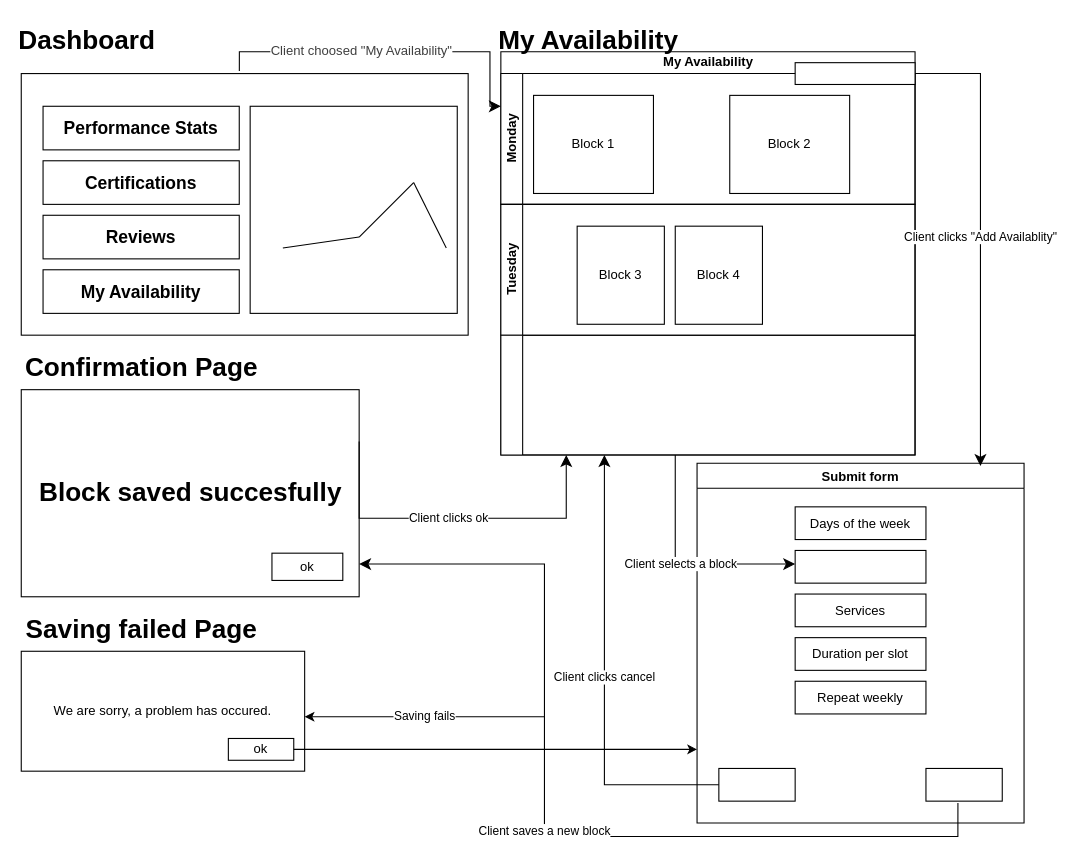
The diagram is 1076 pixels wide and 867 high, and some of its shapes have lost their labels. Here are the shapes that lost their labels. From the top down, the centre of each, then its label:
the point at 854,73: Add Availability
the point at 353,209: Last 30 days
the point at 707,394: Wednesday
the point at 860,566: Start time : End time
the point at 756,784: Cancel
the point at 963,784: Save
